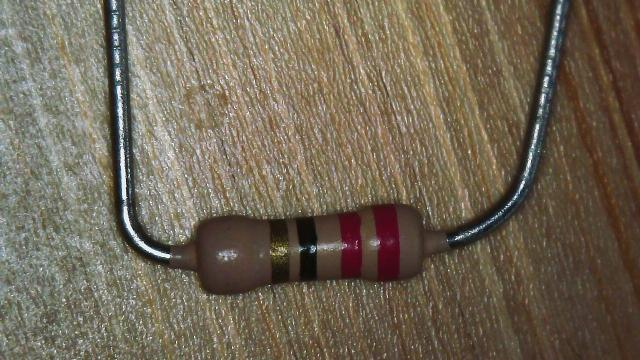black: (298, 213, 318, 282)
gold: (269, 219, 290, 283)
red: (376, 204, 399, 283), (342, 210, 361, 280)
resistor: (172, 191, 454, 303)
